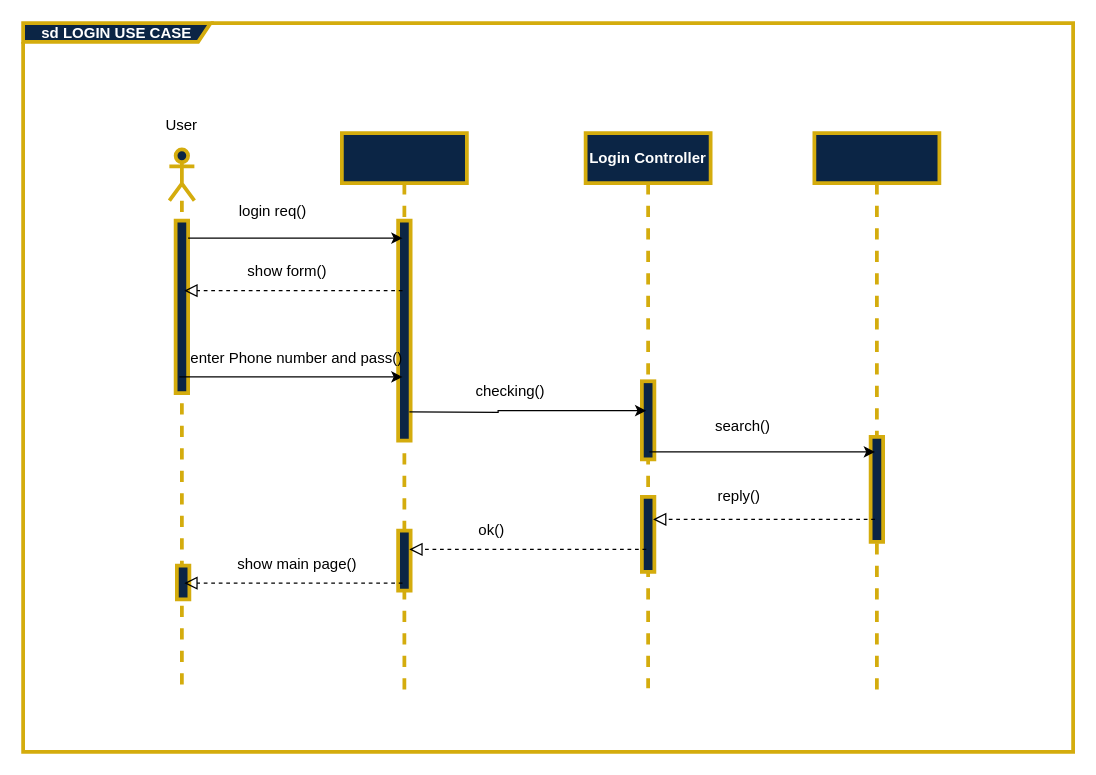
The diagram is 1096 pixels wide and 775 high, and some of its shapes have lost their labels. The shapes that lost their labels are listed below. From the top down, each one's centre as x and y in pixels, then its label:
At point 403,414: "Login UI".
At point 876,412: "DataBase".
